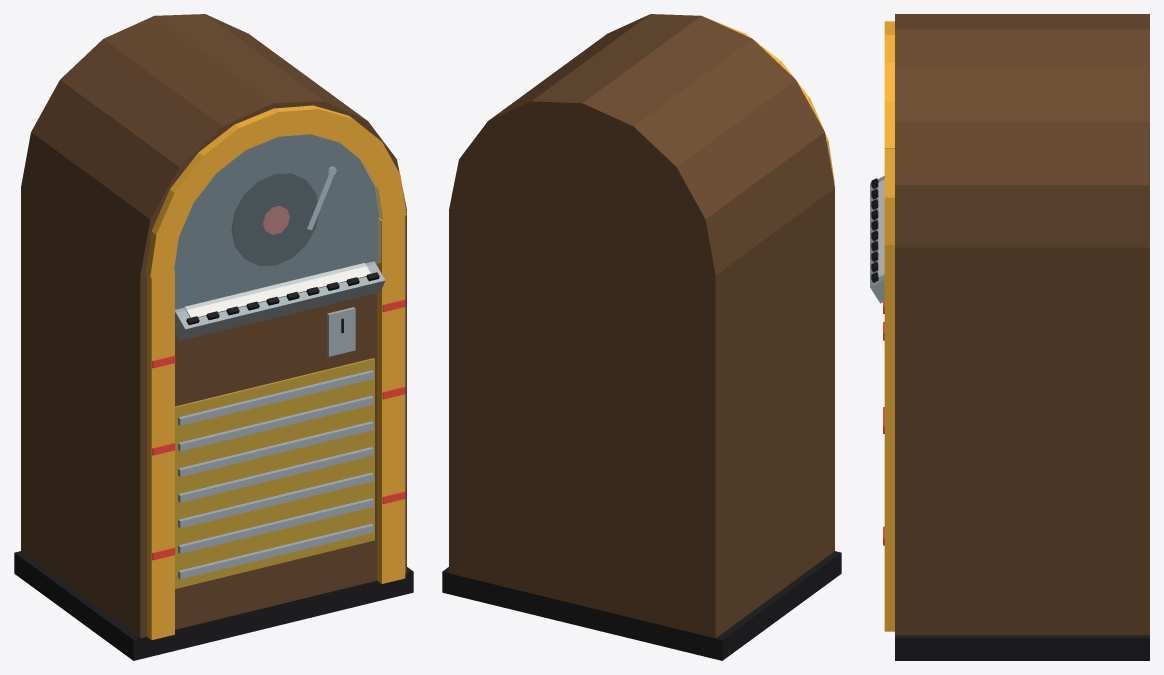
Rendered from GH_Jukebox_01.glb.
3 renders of one model, left to right at view 1: azimuth 30°, elevation 25°; view 2: azimuth 150°, elevation 25°; view 3: azimuth 270°, elevation 25°, orthographic. The views are drawn at different scales.
Parts seen in each view (by area): view 1: GH_Jukebox_01; view 2: GH_Jukebox_01; view 3: GH_Jukebox_01.
Part boxes in pixels (x1,y1,x2,y2): GH_Jukebox_01: (14,14,413,660); GH_Jukebox_01: (442,14,841,660); GH_Jukebox_01: (870,14,1149,660).
Size of the model in its own units: 0.84 by 1.5 by 0.6808.
2 materials, 2 textured.
